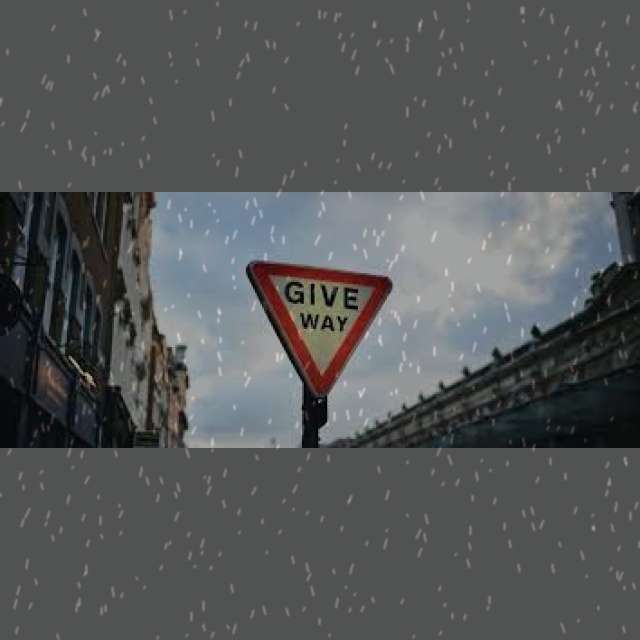Give_Way: (258, 260, 391, 395)
